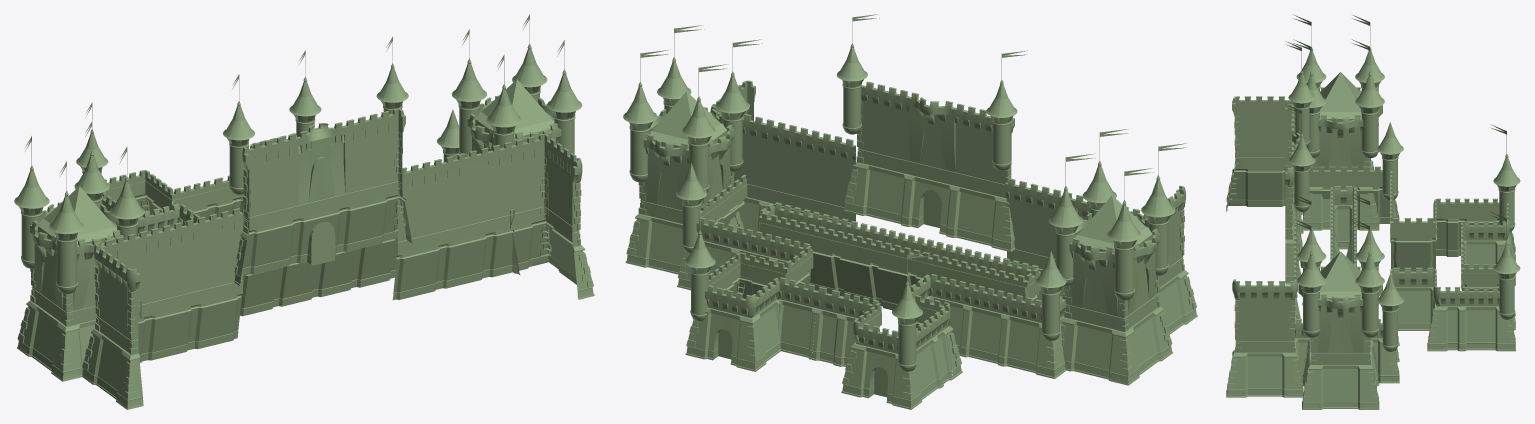
Rendered from castle_new.fbx.
The picture shows the model from 3 angles, left to right: view 1: azimuth 30°, elevation 25°; view 2: azimuth 150°, elevation 25°; view 3: azimuth 270°, elevation 25°; orthographic projection. The views are drawn at different scales.
Visible parts, largest first — view 1: main_wall20 (×10), bottom_wall_36 (×9), bottom_wall_6 (×4), wall_group_group11_group8_top_wall16 (×9), corner_bottom (×5), main_wall21, pCylinder2 (×3), pCube141, pCube140, pCube3 (×2), bottom_wall_40, main_wall22 (+8 smaller); view 2: main_wall20 (×7), bottom_wall_6 (×7), pCylinder2 (×8), bottom_wall_36 (×4), wall_group_group11_group8_top_wall2 (×10), main_wall24 (×2), bottom_wall_42 (×2), wall_group_group11_group8_top_wall16 (×5), main_wall21, main_wall22 (×2), bottom_wall_28, bottom_wall_23 (+26 smaller); view 3: bottom_wall_6 (×6), main_wall20 (×2), main_wall23 (×2), pCylinder2 (×6), bottom_wall_36 (×2), corner_bottom (×8), bottom_wall_43 (×2), pCylinder8 (×2), pCube141, pCube140, bottom_wall_27, pCylinder6 (×2) (+22 smaller).
Boxes of the visible parts, x1,y1,x2,y2 form: main_wall20 (×10): [100, 123, 572, 351]; bottom_wall_36 (×9): [91, 197, 576, 402]; bottom_wall_6 (×4): [240, 238, 397, 316]; wall_group_group11_group8_top_wall16 (×9): [97, 111, 537, 286]; corner_bottom (×5): [53, 194, 594, 409]; main_wall21: [298, 134, 345, 218]; pCylinder2 (×3): [19, 99, 480, 268]; pCube141: [475, 79, 554, 138]; pCube140: [37, 186, 116, 244]; pCube3 (×2): [391, 121, 548, 222]; bottom_wall_40: [26, 304, 62, 374]; main_wall22: [34, 243, 62, 323]; main_wall20 (×7): [733, 95, 1179, 287]; bottom_wall_6 (×7): [704, 241, 913, 365]; pCylinder2 (×8): [681, 79, 1136, 371]; bottom_wall_36 (×4): [741, 164, 1188, 334]; wall_group_group11_group8_top_wall2 (×10): [696, 211, 1002, 313]; main_wall24 (×2): [646, 148, 1117, 330]; bottom_wall_42 (×2): [641, 215, 1117, 381]; wall_group_group11_group8_top_wall16 (×5): [763, 81, 1051, 208]; main_wall21: [909, 106, 955, 185]; main_wall22 (×2): [702, 147, 1156, 328]; bottom_wall_28: [963, 305, 1005, 365]; bottom_wall_23: [1001, 314, 1042, 375]; bottom_wall_6 (×6): [1295, 205, 1499, 383]; main_wall20 (×2): [1242, 107, 1287, 352]; main_wall23 (×2): [1318, 126, 1363, 364]; pCylinder2 (×6): [1292, 101, 1516, 351]; bottom_wall_36 (×2): [1242, 169, 1287, 397]; corner_bottom (×8): [1226, 168, 1515, 397]; bottom_wall_43 (×2): [1318, 187, 1363, 409]; pCylinder8 (×2): [1359, 106, 1380, 337]; pCube141: [1320, 251, 1361, 301]; pCube140: [1320, 72, 1361, 121]; bottom_wall_27: [1391, 238, 1435, 271]; pCylinder6 (×2): [1300, 106, 1322, 337].
Bounding box in the file's own units: 41.72 × 19.83 × 23.71.
